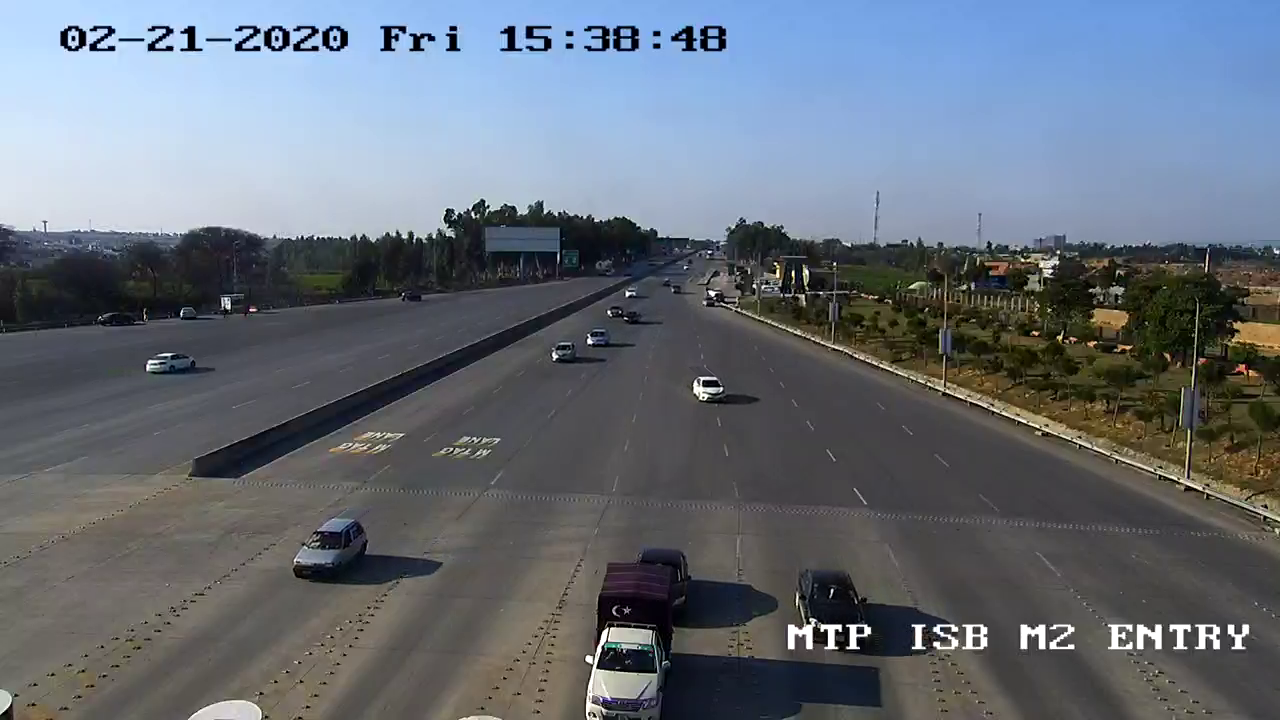f1: (286, 508, 379, 594), (685, 363, 735, 408)
f2: (566, 561, 680, 720)
